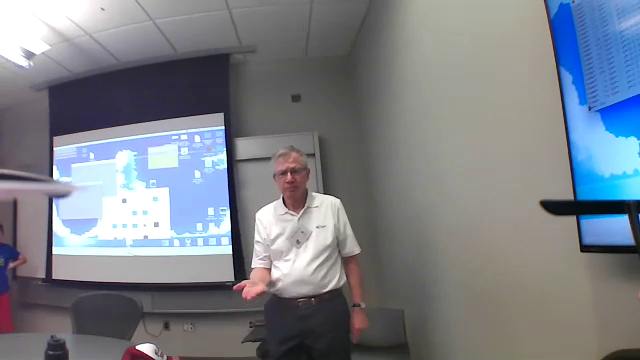land: (231, 272, 280, 309)
